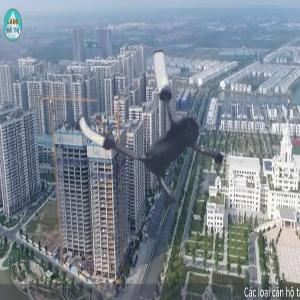drone: (77, 45, 252, 220)
